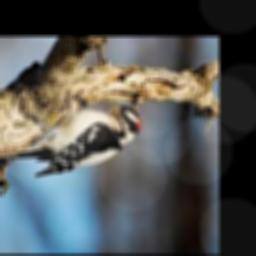Woodpecker: (7, 99, 140, 177)
